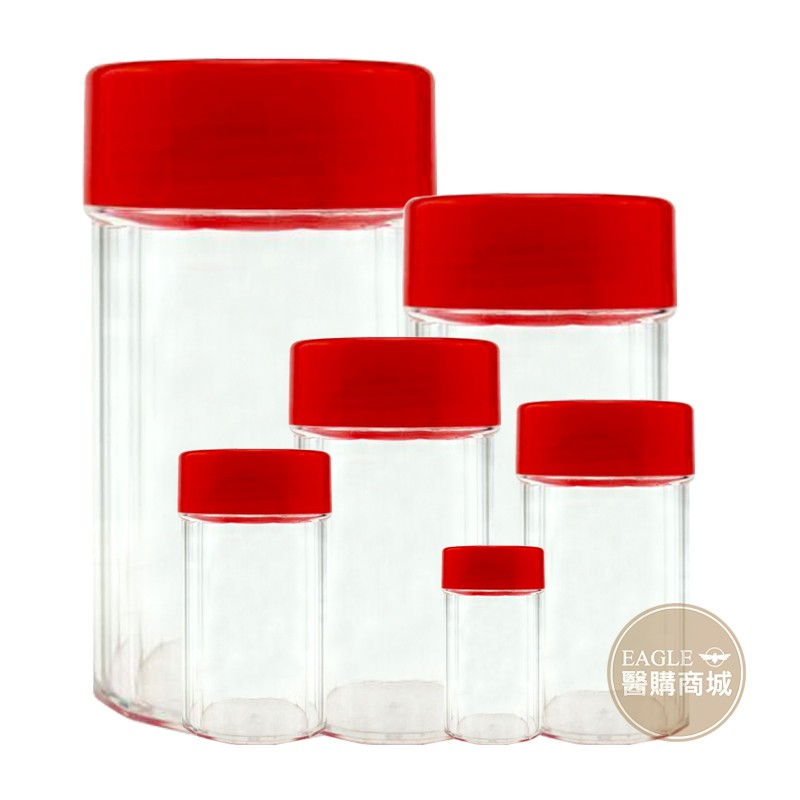medicinejar: (76, 59, 435, 731), (394, 187, 698, 715), (288, 332, 528, 755), (511, 397, 698, 755), (174, 441, 327, 752), (443, 543, 555, 753)
